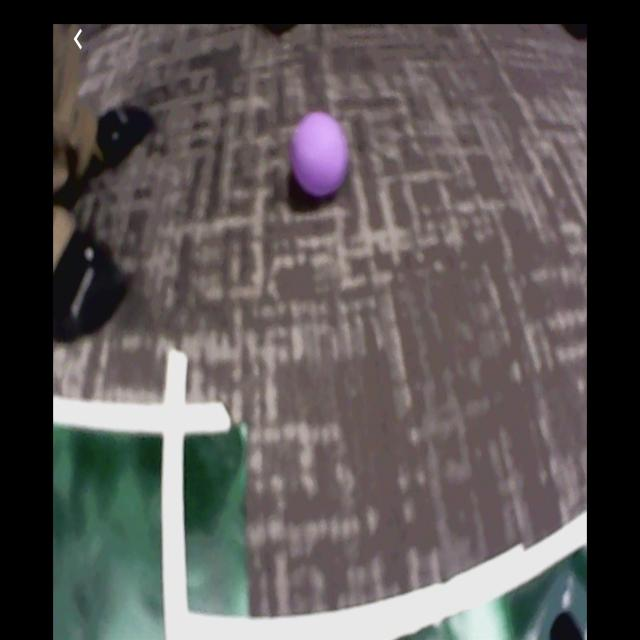ball: (294, 113, 349, 197)
